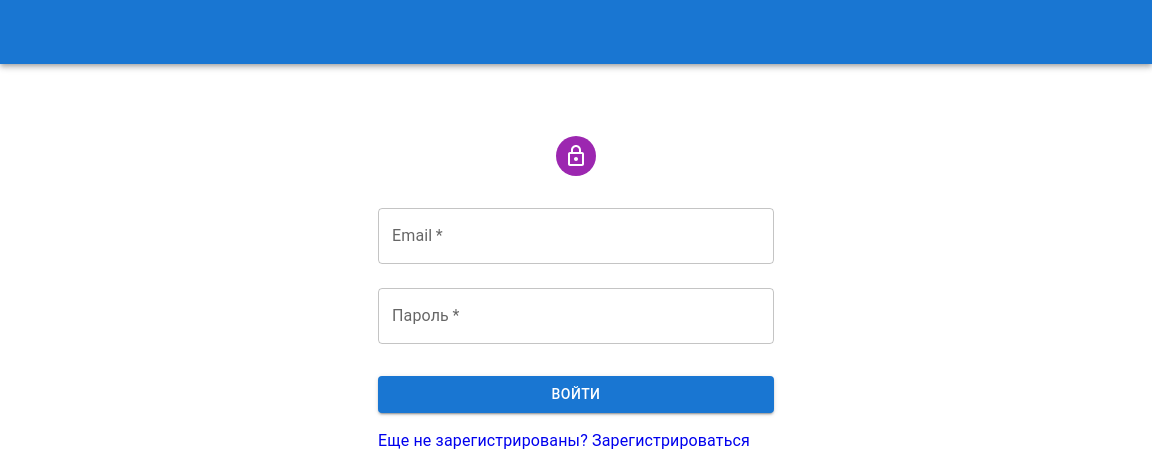
Test: Проверка аторизации, создания продукта и проставления ему лайка › не должна производится авторизация при невалидно заполненной форме входа
Type "aaa" into the element with test id "emailTextField" at (576, 236), box [378, 208, 774, 264]
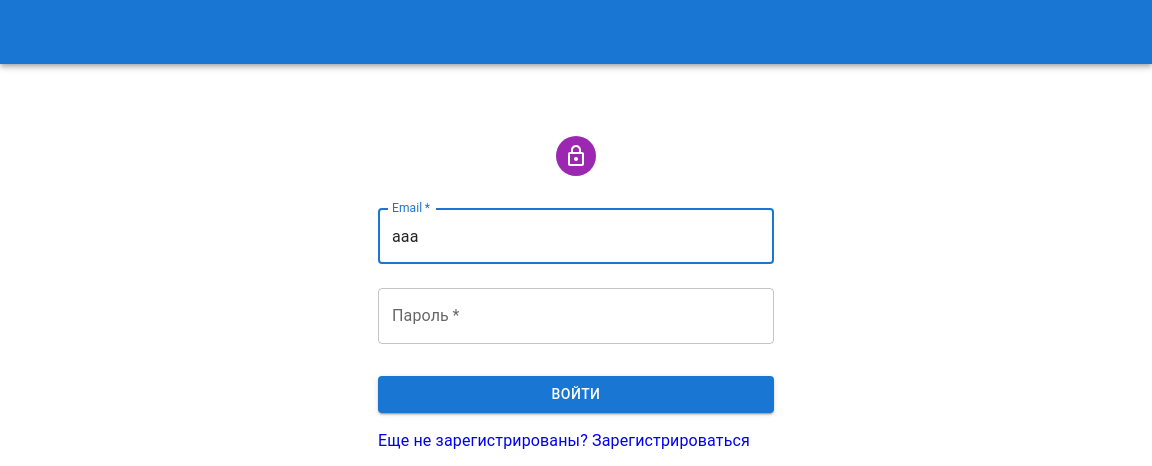
Type "123" into the element with test id "passwordTextField" at (576, 316), box [378, 288, 774, 344]
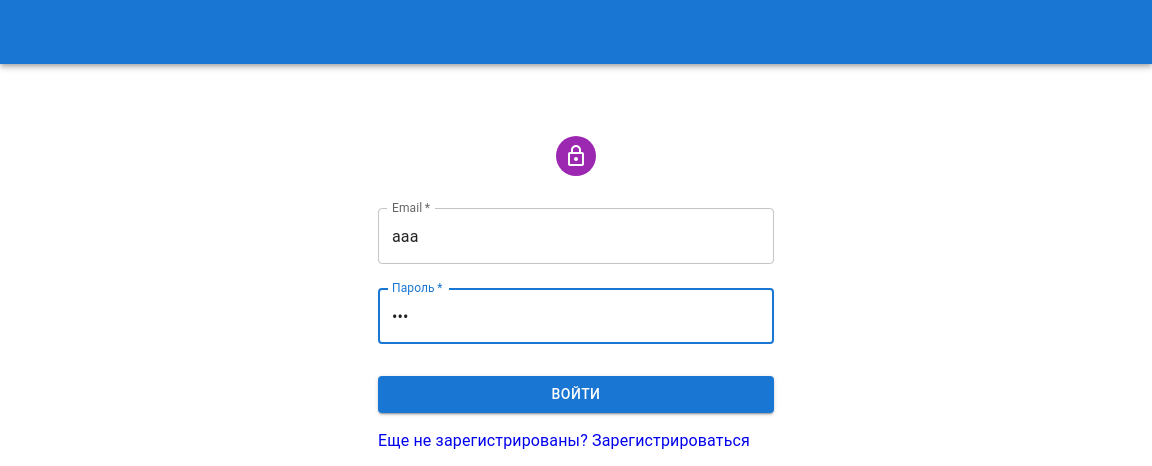
Click the button with test id "submitButton" at (576, 395), box [378, 376, 774, 413]
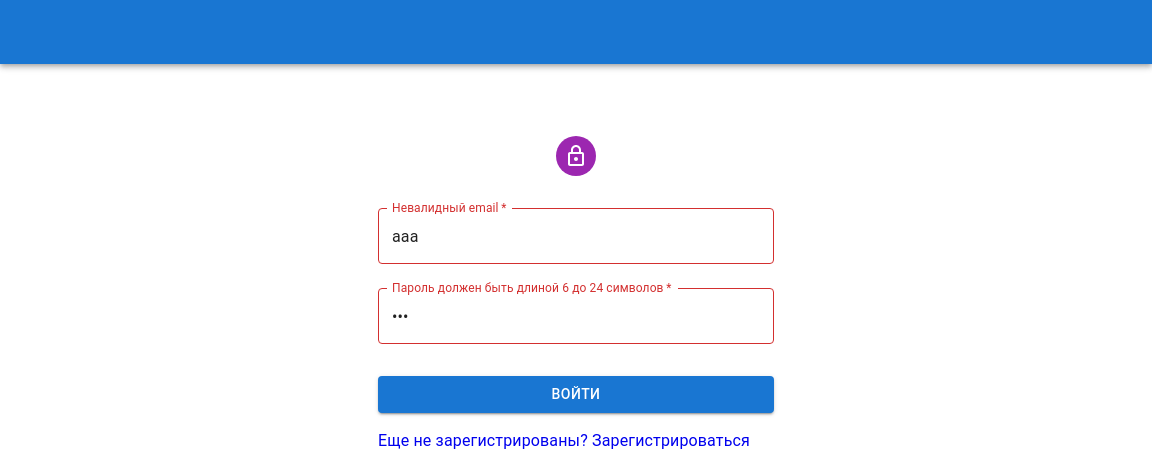
Now the label with test id "emailTextField" shows "Невалидный email", box [392, 199, 507, 216]
Now the label with test id "passwordTextField" shows "Пароль должен быть длиной 6 до 24 символов", box [392, 279, 672, 296]
